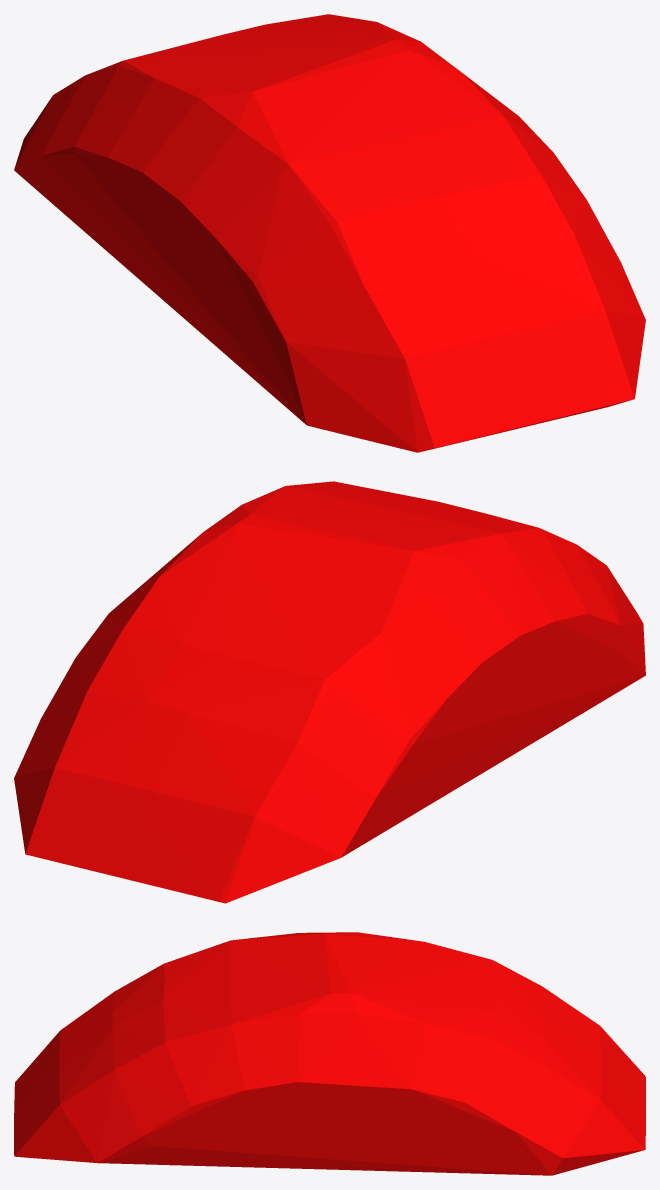
Rendered from wrist_pitch_0091_convex_hull_11.obj.
3 renders of one model, top to bottom at view 1: azimuth 30°, elevation 25°; view 2: azimuth 150°, elevation 25°; view 3: azimuth 270°, elevation 25°, orthographic. The views are drawn at different scales.
Parts seen in each view (by area): view 1: wrist_pitch_0091_convex_hull_11; view 2: wrist_pitch_0091_convex_hull_11; view 3: wrist_pitch_0091_convex_hull_11.
Part boxes in pixels (x1,y1,x2,y2): wrist_pitch_0091_convex_hull_11: (14,14,645,452); wrist_pitch_0091_convex_hull_11: (14,481,645,903); wrist_pitch_0091_convex_hull_11: (14,932,645,1175).
Bounding box in the file's own units: 0.0216 × 0.0129 × 0.0458.
